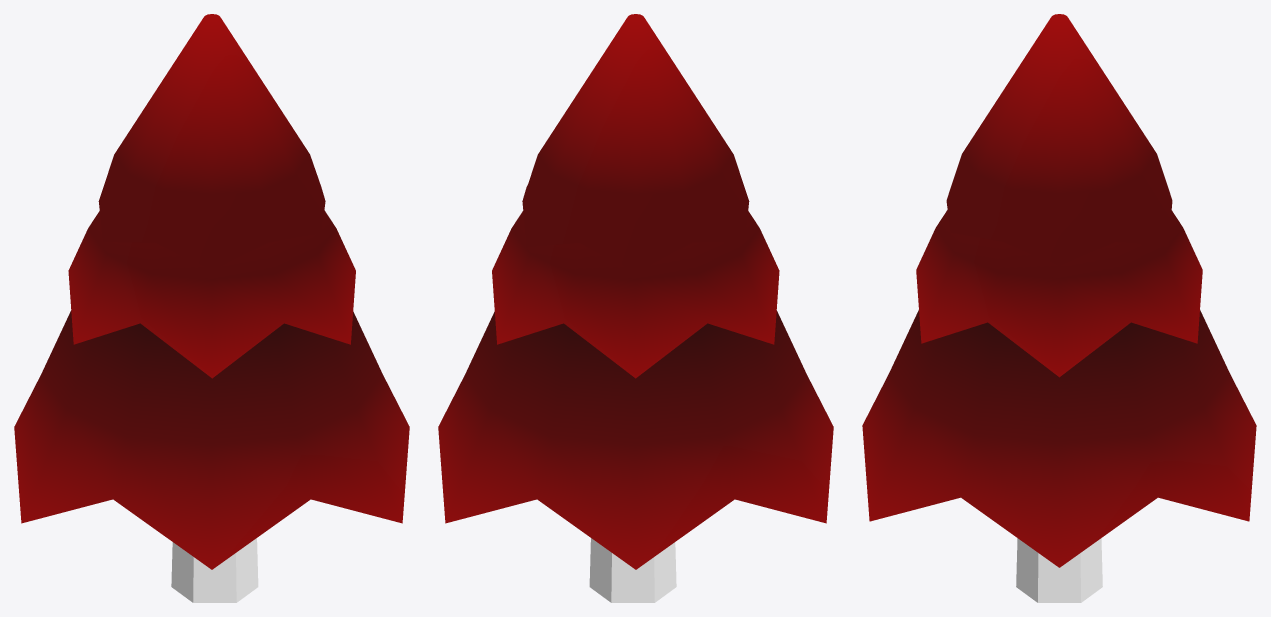
File: PineTree01_Snow.fbx
3 renders of one model, left to right at view 1: azimuth 30°, elevation 25°; view 2: azimuth 150°, elevation 25°; view 3: azimuth 270°, elevation 25°, orthographic.
Visible parts, largest first — view 1: LEAF, SNOW, TRUNK; view 2: LEAF, SNOW, TRUNK; view 3: LEAF, SNOW, TRUNK.
Boxes of the visible parts, box(x1,y1,x2,y2) form: LEAF: box(14, 210, 409, 569); SNOW: box(98, 14, 325, 270); TRUNK: box(171, 538, 258, 602); LEAF: box(438, 211, 833, 569); SNOW: box(522, 14, 749, 272); TRUNK: box(589, 538, 676, 602); LEAF: box(862, 210, 1256, 567); SNOW: box(946, 14, 1172, 265); TRUNK: box(1016, 538, 1102, 602).
Bounding box in the file's own units: 124 × 178 × 112.
